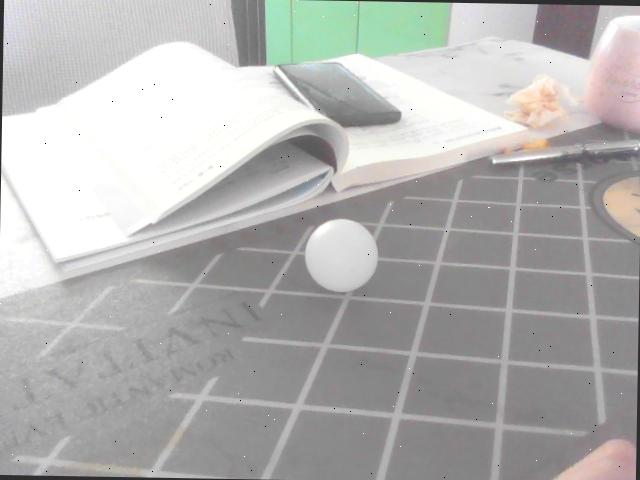ball: (304, 218, 377, 292)
